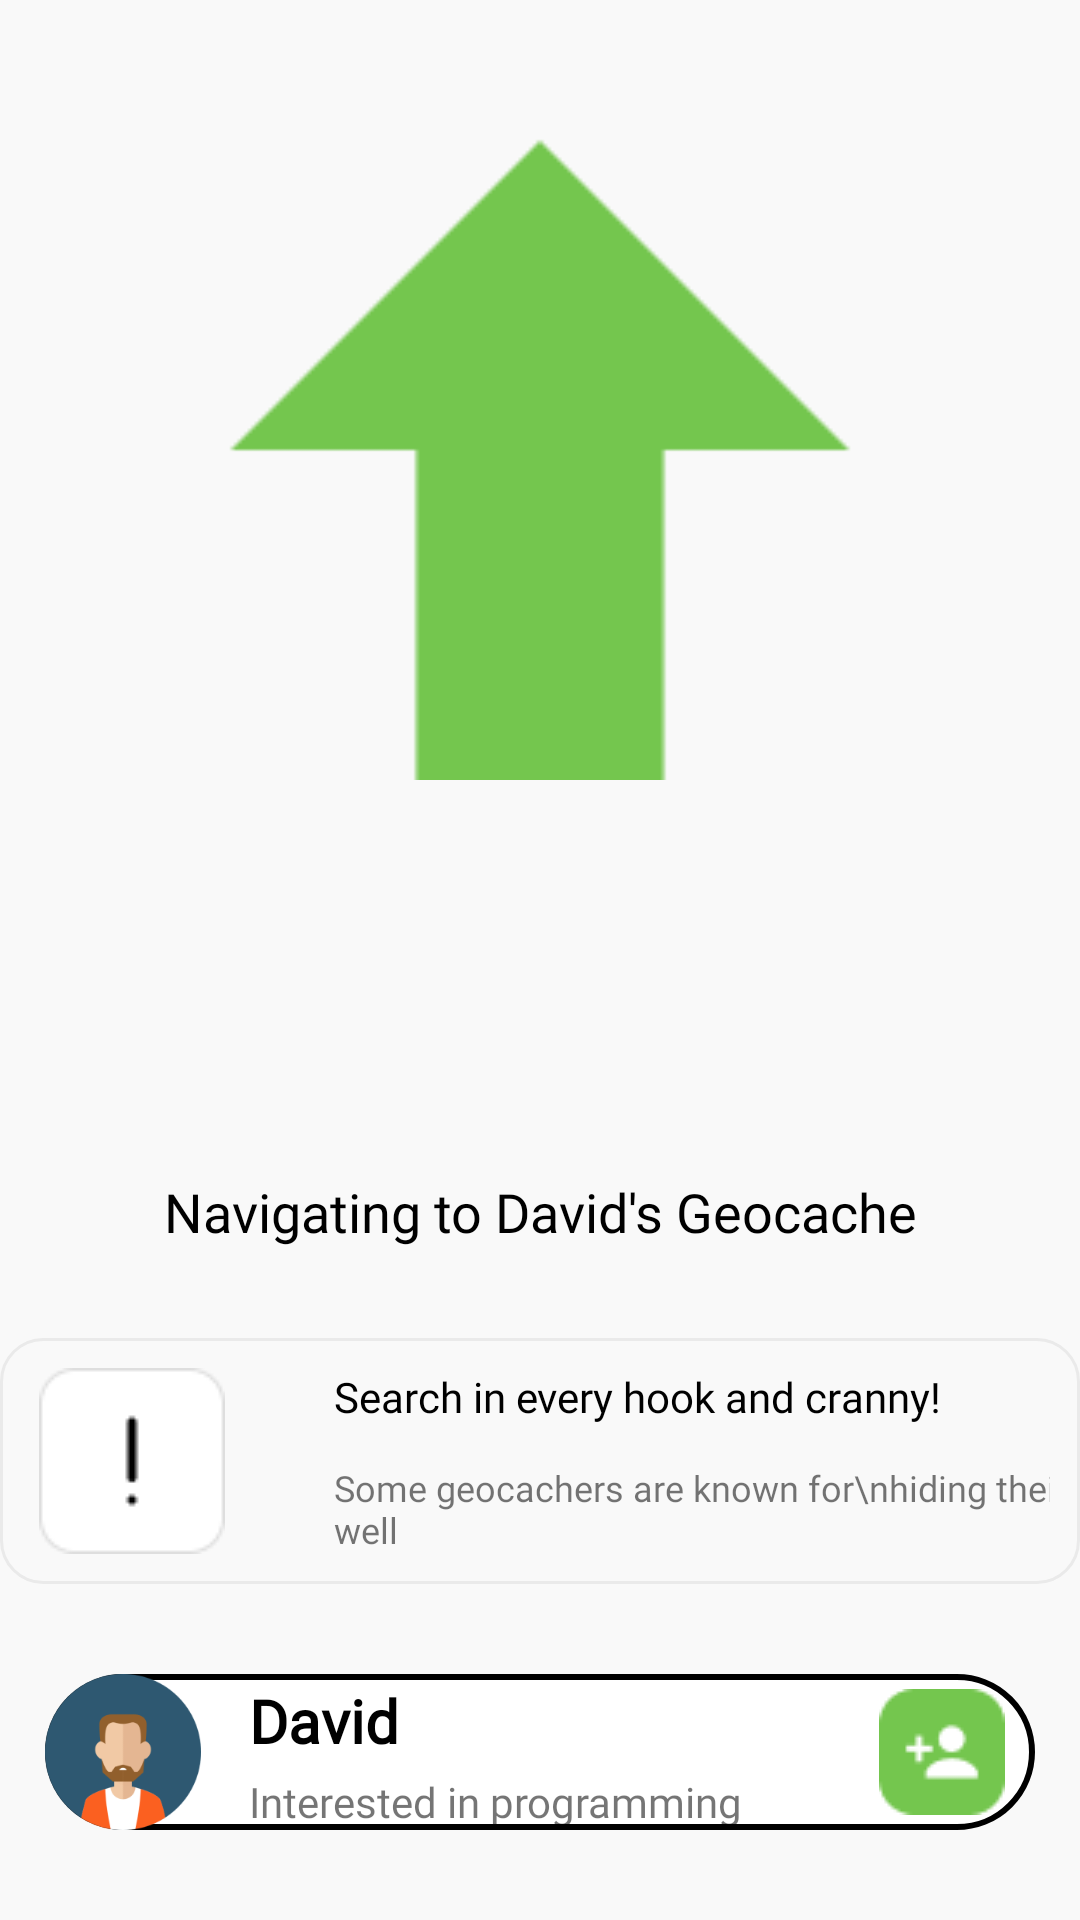

Screen size 1080px×1920px. Icon name, then its box in pixels as box=[x1, y1, x2, y2]:
addfriend: box=[879, 1689, 1005, 1815]
exclaimationmark: box=[39, 1368, 225, 1554]
profilepic: box=[45, 1674, 201, 1830]
